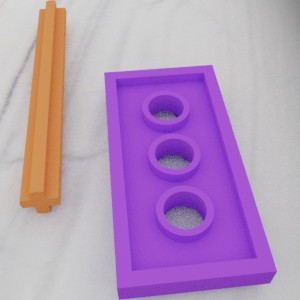lego: (104, 64, 277, 299), (19, 0, 66, 213)
